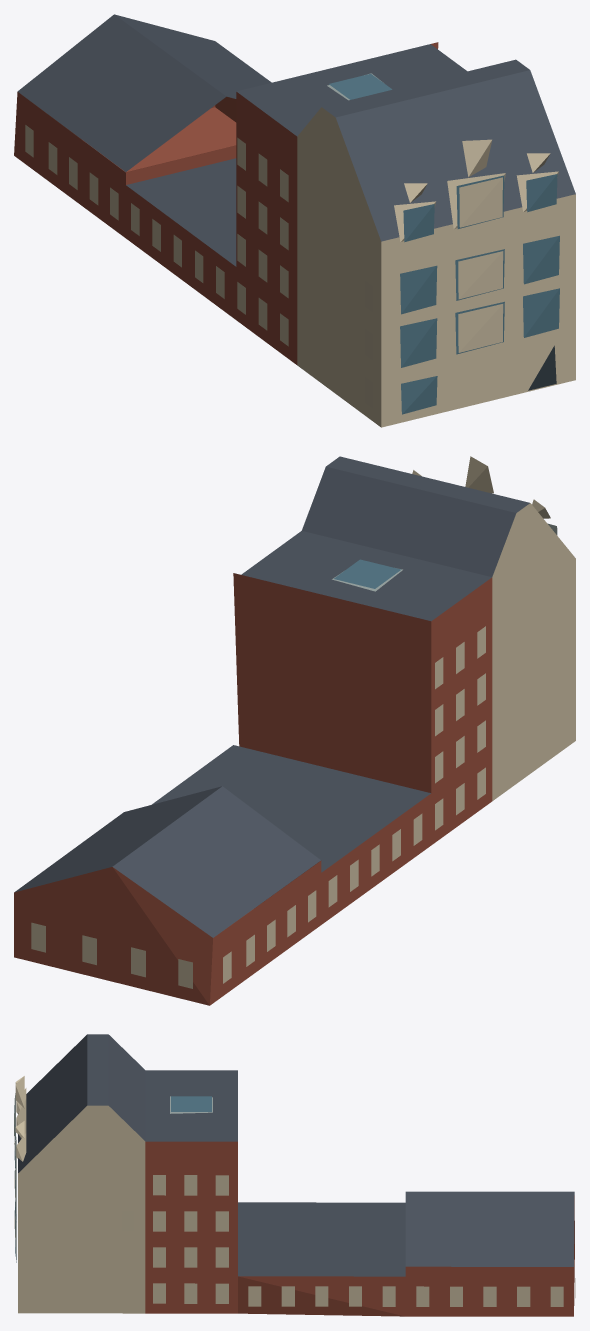
The model's file is niod.lod2.glb.
The picture shows the model from 3 angles, top to bottom: view 1: azimuth 30°, elevation 25°; view 2: azimuth 150°, elevation 25°; view 3: azimuth 270°, elevation 25°; orthographic projection. The views are drawn at different scales.
Visible parts, largest first — view 1: lod2; view 2: lod2; view 3: lod2.
Boxes of the visible parts, x1,y1,x2,y2 form: lod2: (14, 14, 575, 427); lod2: (14, 456, 575, 1005); lod2: (14, 1034, 575, 1316).
Size of the model in its own units: 17.5 by 22.43 by 55.
